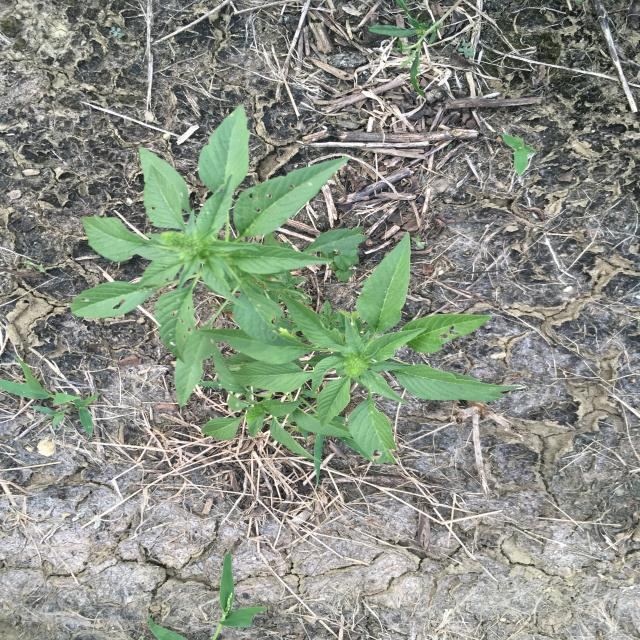PalmerAmaranth: (68, 101, 370, 411), (194, 230, 524, 471)
Waterhemp: (367, 2, 467, 98)
